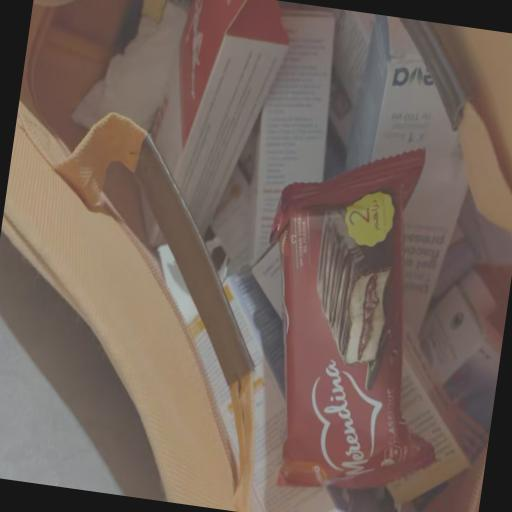merendina: (209, 84, 512, 512)
